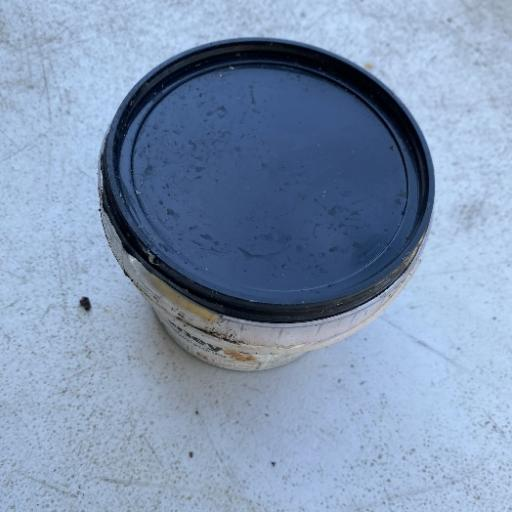Plastic: (95, 35, 437, 373)
